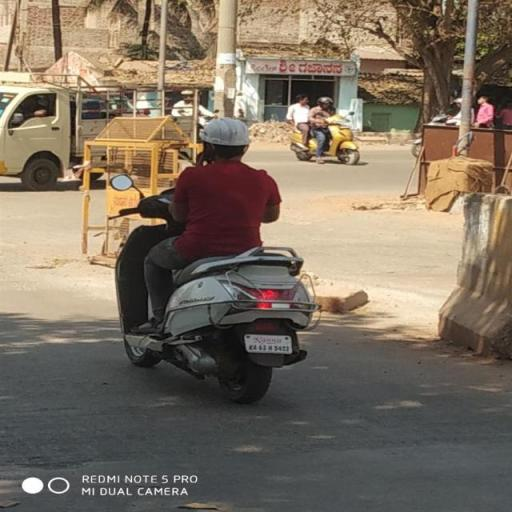using mobile: (195, 148, 215, 166)
